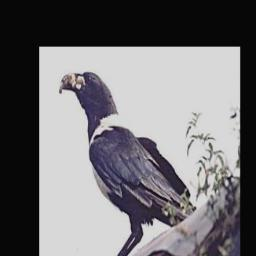Crow: (57, 69, 202, 256)
